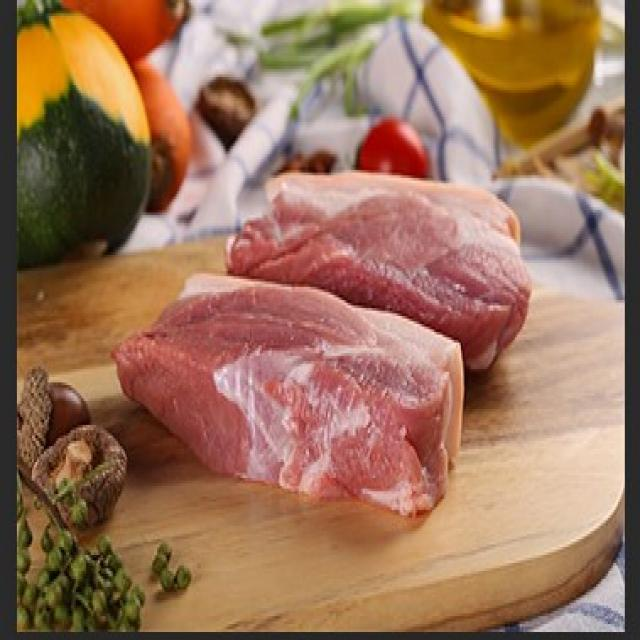pork: (105, 257, 473, 531), (229, 161, 533, 351)
